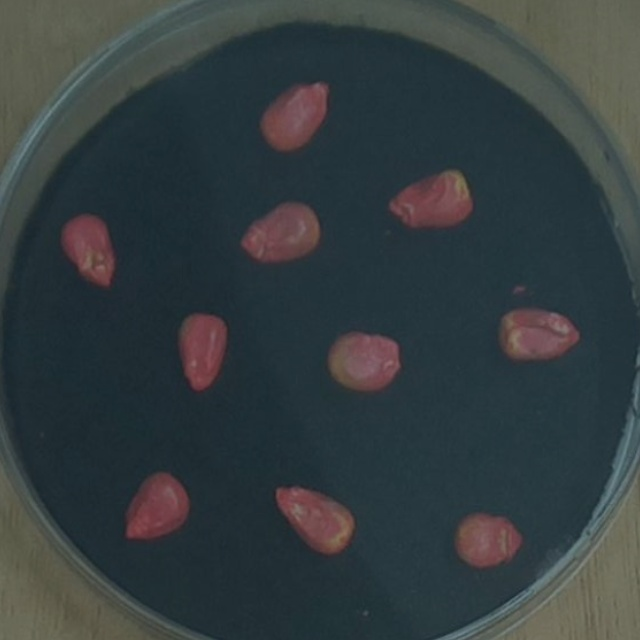Zea mays: (267, 478, 363, 564), (251, 71, 338, 160), (231, 193, 328, 272), (380, 160, 480, 236), (117, 463, 197, 549), (490, 298, 586, 369), (320, 323, 408, 399), (52, 205, 123, 295), (169, 307, 236, 400), (447, 505, 530, 578)
